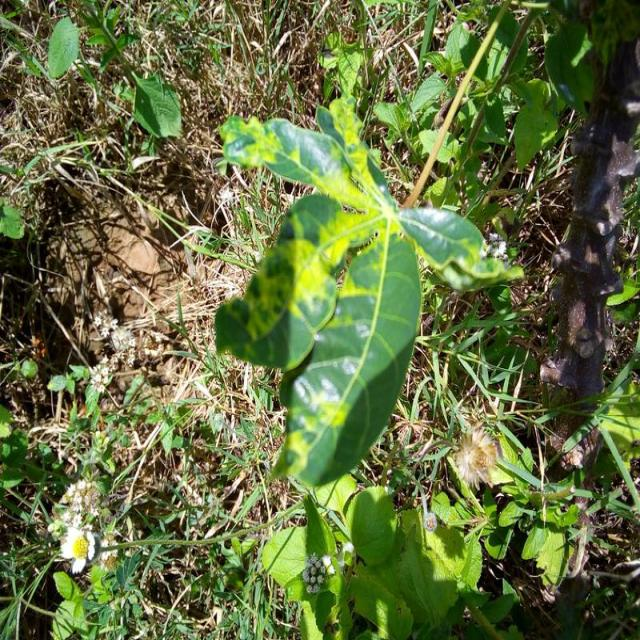cassava leaf: (212, 94, 514, 488), (269, 227, 422, 488)
